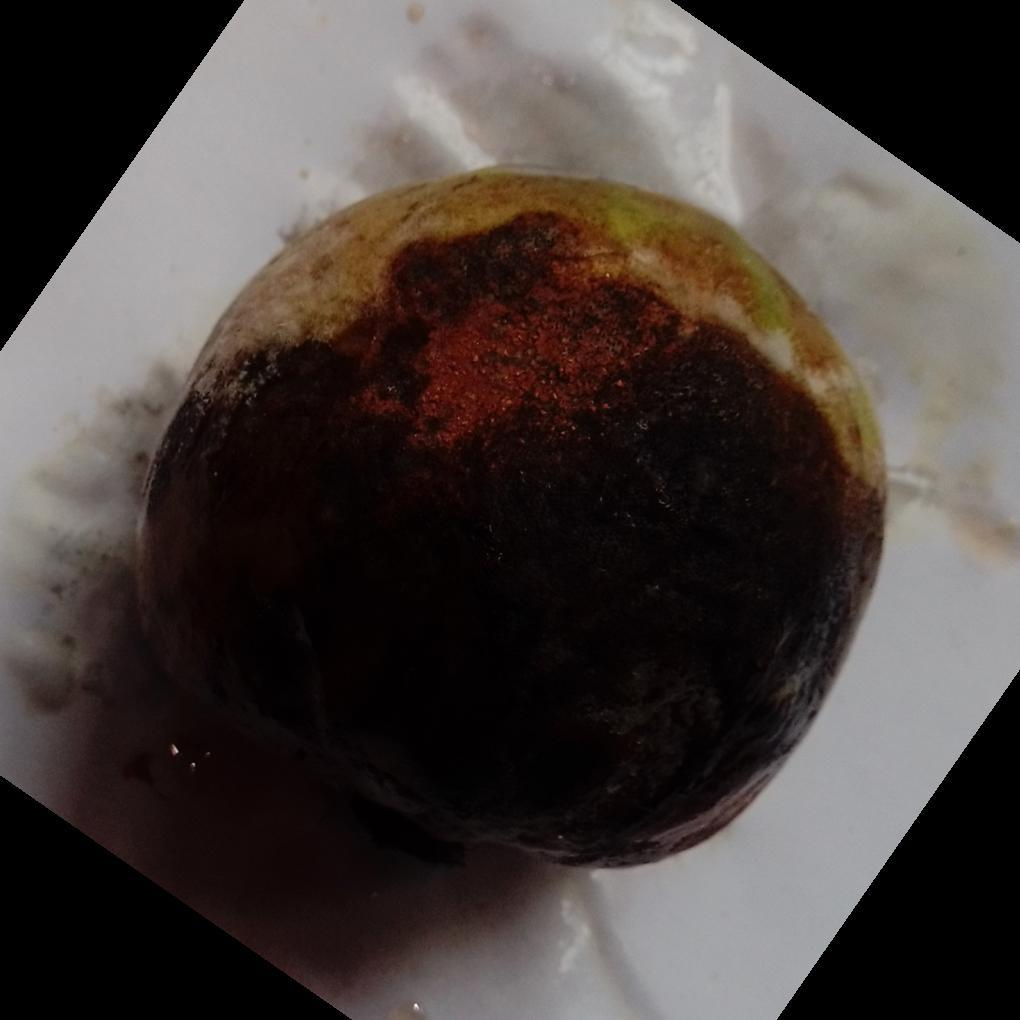FreshOrange: (129, 167, 891, 874)
